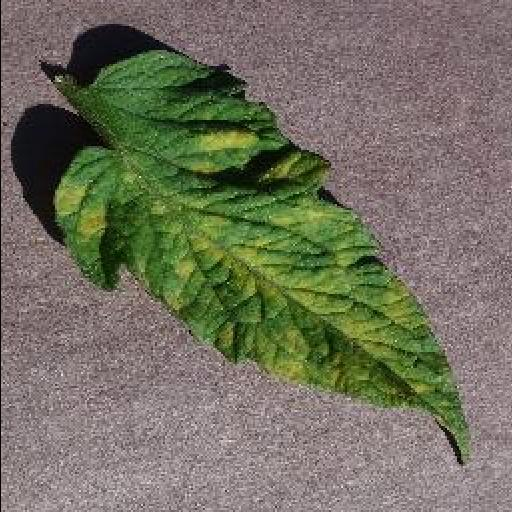disease_tomato: (51, 52, 473, 454)
